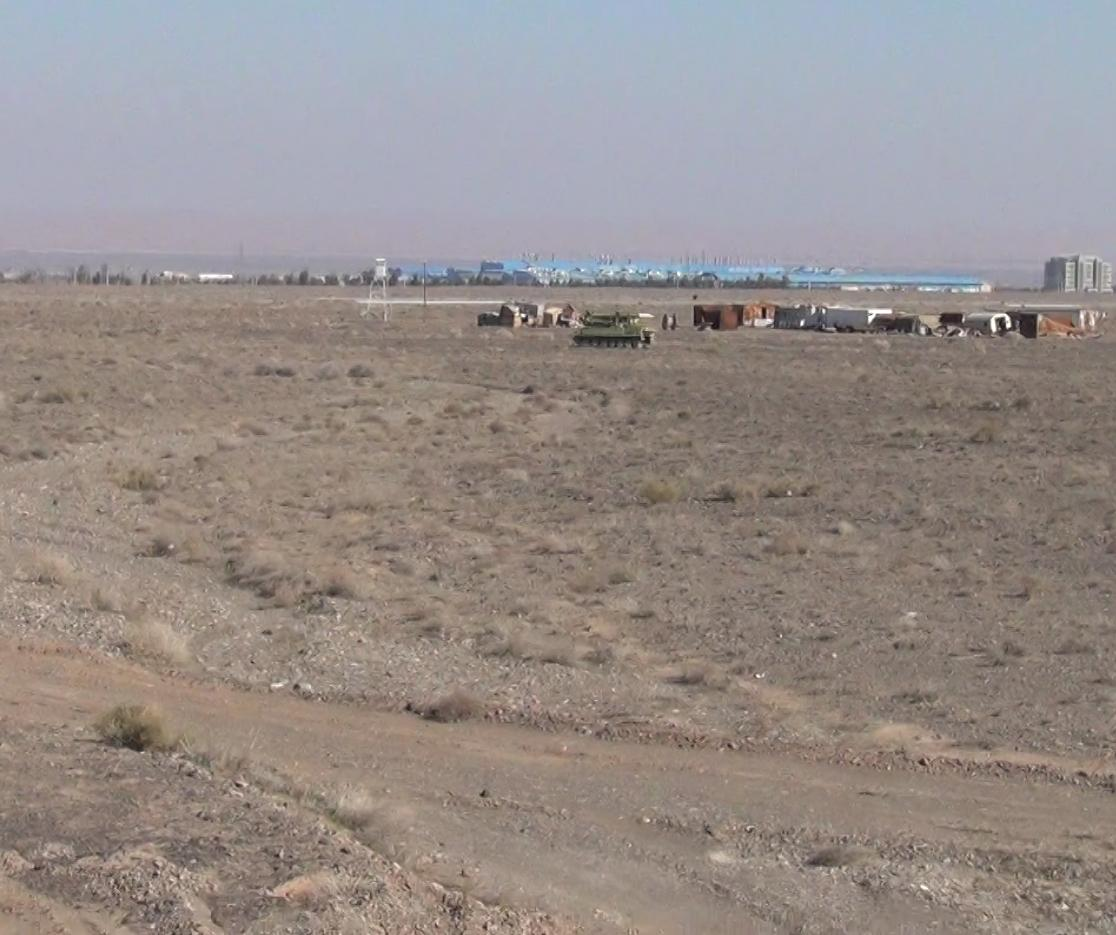armored_car: (568, 306, 658, 351)
